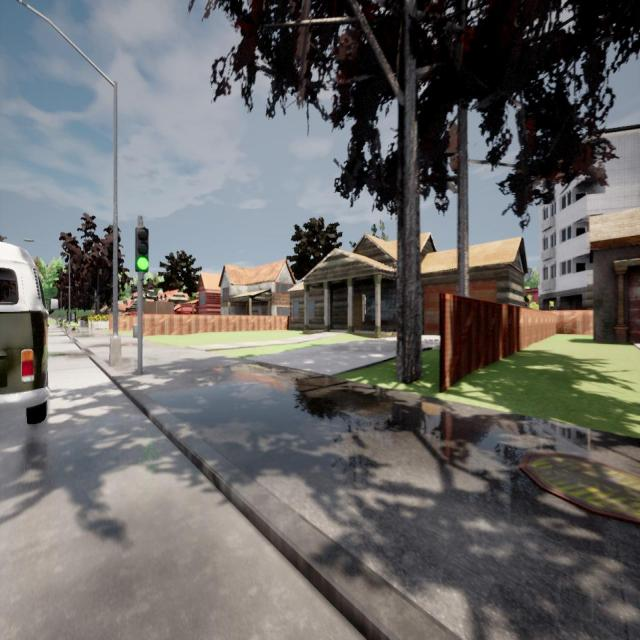Vehicle: (0, 242, 63, 423)
traffic_light: (135, 227, 148, 271)
